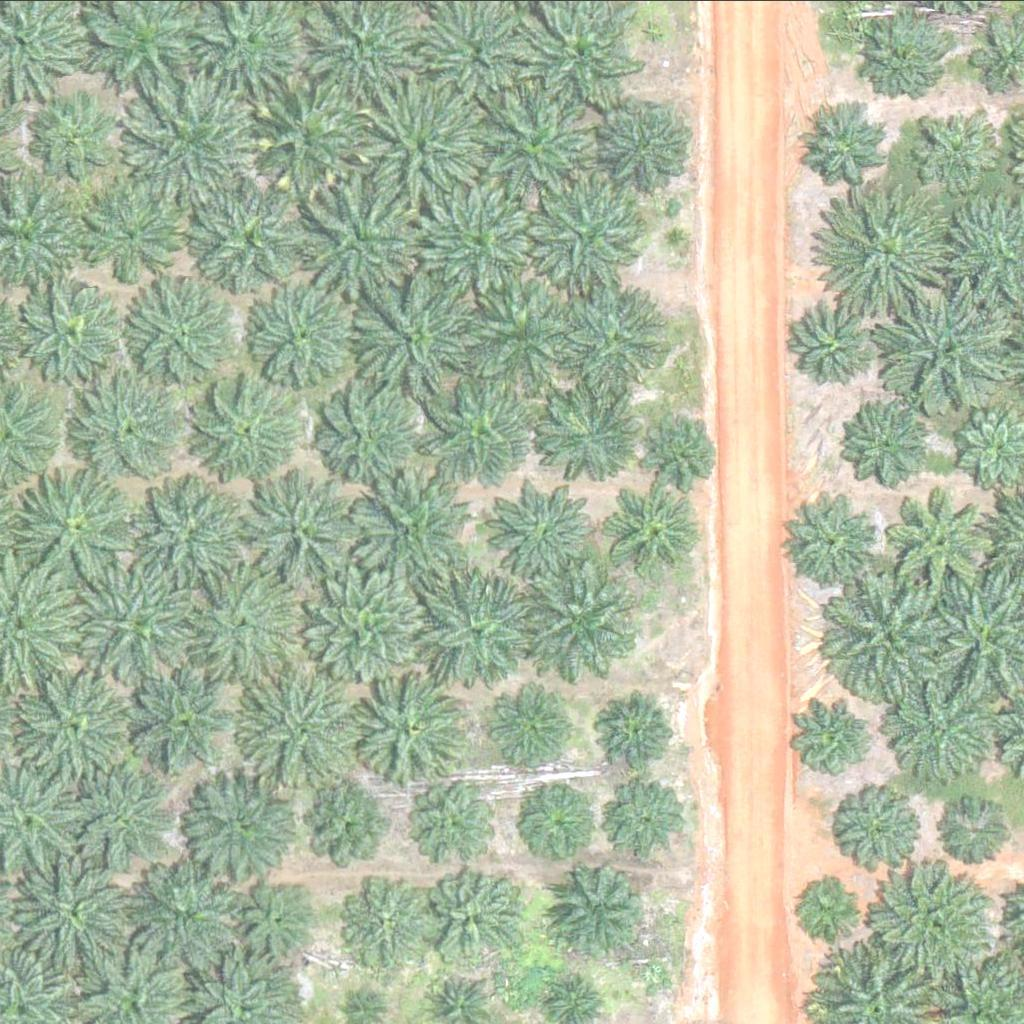Kelapa_Sawit: (827, 189, 953, 314), (885, 282, 1011, 407), (826, 575, 952, 700), (363, 77, 489, 202), (239, 78, 365, 203), (125, 78, 251, 203), (198, 175, 324, 300), (876, 857, 990, 970), (881, 668, 994, 781), (416, 4, 529, 117), (565, 280, 678, 393), (462, 278, 575, 391), (350, 274, 463, 387), (71, 375, 184, 488), (416, 376, 529, 489), (21, 466, 134, 579), (126, 476, 239, 589), (244, 479, 357, 592), (518, 566, 631, 679), (350, 676, 463, 789), (190, 773, 303, 886), (18, 855, 131, 968), (119, 869, 232, 982), (487, 88, 600, 200), (303, 181, 416, 293), (418, 182, 531, 294), (533, 179, 646, 291), (234, 274, 347, 386), (121, 278, 234, 390), (348, 471, 461, 583), (494, 475, 607, 587), (75, 568, 188, 680), (184, 570, 297, 682), (303, 572, 416, 684), (418, 576, 531, 688), (240, 674, 353, 786), (13, 670, 126, 782), (895, 487, 996, 587), (784, 489, 885, 589), (588, 86, 689, 186), (190, 375, 291, 475), (314, 384, 415, 484), (536, 383, 637, 483), (137, 672, 238, 772), (549, 863, 650, 963), (79, 184, 179, 284), (20, 281, 120, 381), (838, 785, 927, 873), (606, 491, 694, 579), (340, 880, 428, 968), (434, 872, 522, 960), (792, 694, 880, 781), (487, 687, 575, 774), (84, 776, 172, 863), (310, 785, 386, 860), (943, 796, 1019, 871), (814, 114, 890, 189), (922, 115, 998, 190), (801, 307, 877, 382), (849, 406, 925, 481), (29, 102, 105, 177), (603, 691, 679, 766), (425, 783, 501, 858), (607, 780, 683, 855), (243, 887, 319, 962), (868, 19, 943, 94), (530, 795, 593, 858), (795, 874, 858, 937), (647, 421, 710, 484), (344, 985, 382, 1023)
